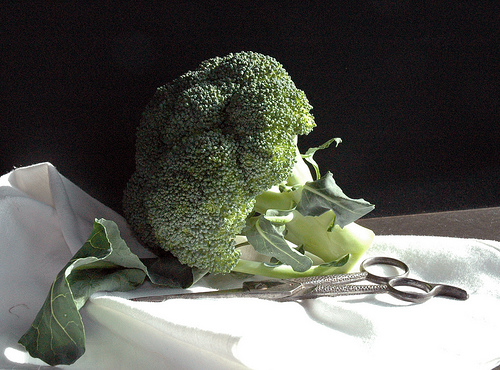broccoli: (17, 49, 375, 366)
